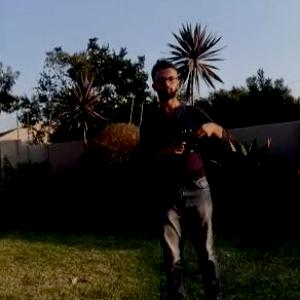follow: (137, 51, 237, 299)
